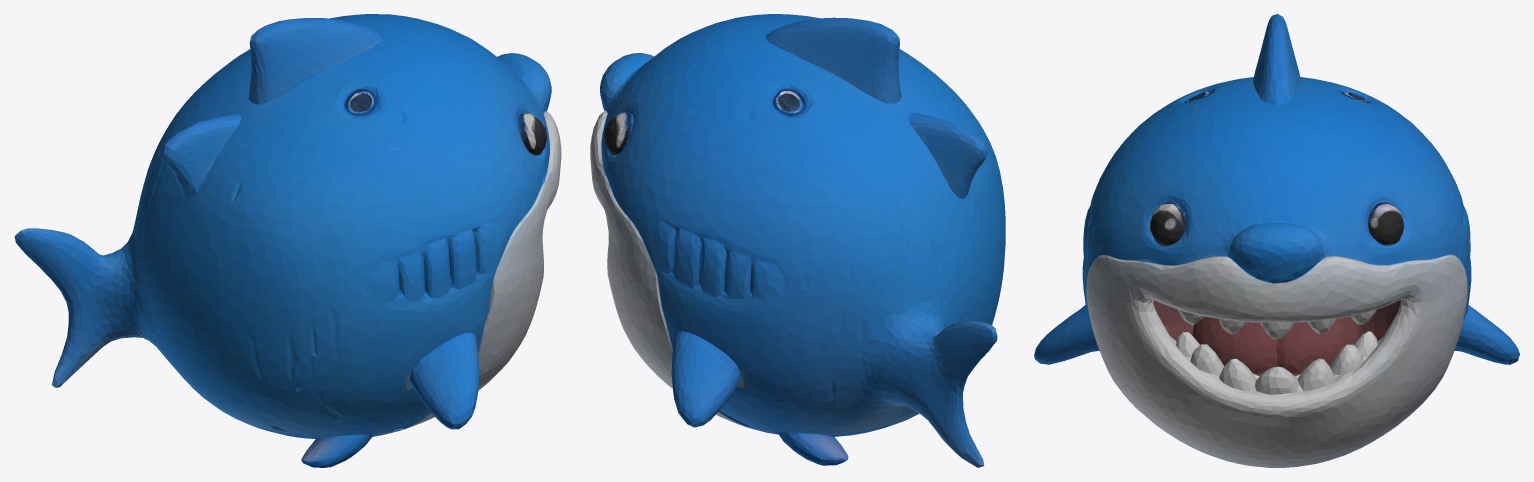
The model's file is fish2.glb.
3 views of the same model, side by side, from view 1: azimuth 30°, elevation 25°; view 2: azimuth 150°, elevation 25°; view 3: azimuth 270°, elevation 25° (orthographic). The views are drawn at different scales.
Parts seen in each view (by area): view 1: tripo_node_a763bd53-000e-494e-8d1b-57e6db21b8b4; view 2: tripo_node_a763bd53-000e-494e-8d1b-57e6db21b8b4; view 3: tripo_node_a763bd53-000e-494e-8d1b-57e6db21b8b4.
Part boxes in pixels (left/top/right/bottom): tripo_node_a763bd53-000e-494e-8d1b-57e6db21b8b4: left=14, top=14, right=561, bottom=467; tripo_node_a763bd53-000e-494e-8d1b-57e6db21b8b4: left=590, top=14, right=1005, bottom=467; tripo_node_a763bd53-000e-494e-8d1b-57e6db21b8b4: left=1034, top=14, right=1519, bottom=467.
Bounding box in the file's own units: 1 × 0.8456 × 0.9539.
Materials: 1 (1 with a texture image).
